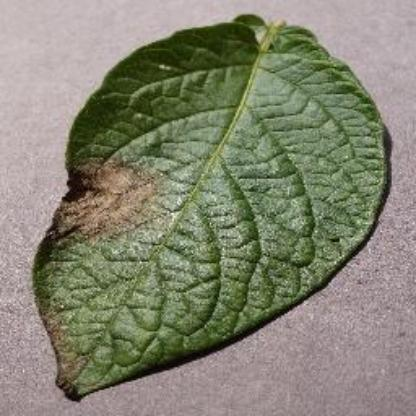Late-Blight: (27, 10, 398, 410)
